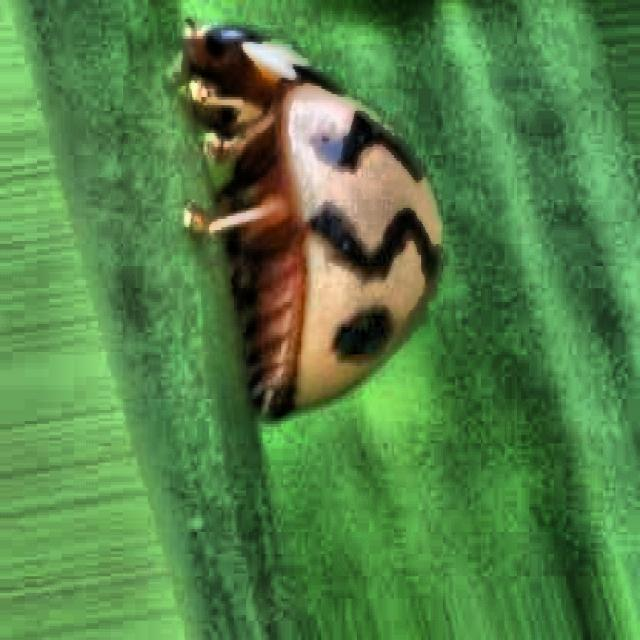Asian-Lady-beetle: (142, 12, 538, 474)
